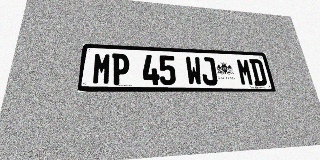4: (143, 55, 160, 85)
5: (159, 55, 177, 85)
D: (249, 59, 268, 86)
J: (200, 57, 218, 85)
M: (92, 53, 112, 85), (236, 58, 254, 86)
P: (111, 53, 129, 85)
W: (185, 56, 203, 85)
